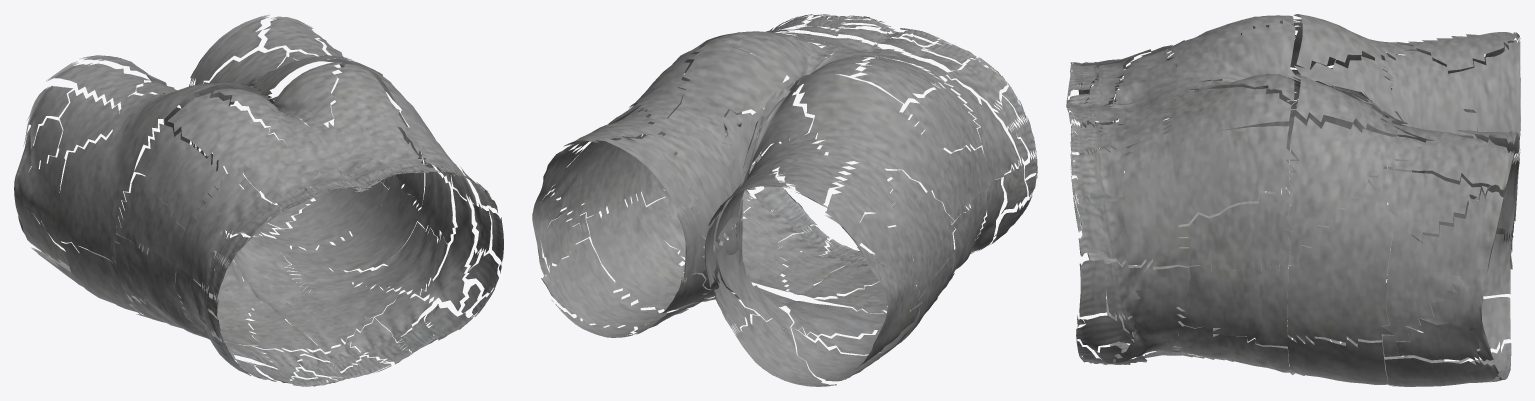
File: adult-base-01.mobile.glb
3 renders of one model, left to right at view 1: azimuth 30°, elevation 25°; view 2: azimuth 150°, elevation 25°; view 3: azimuth 270°, elevation 25°, orthographic. The views are drawn at different scales.
Visible parts, largest first — view 1: geometry_0; view 2: geometry_0; view 3: geometry_0.
Boxes of the visible parts, bbox=[...] form: geometry_0: bbox=[14, 15, 503, 386]; geometry_0: bbox=[532, 14, 1037, 386]; geometry_0: bbox=[1066, 14, 1520, 386].
Bounding box in the file's own units: 0.00402 × 0.00277 × 0.00391.
Materials: 1 (1 with a texture image).
